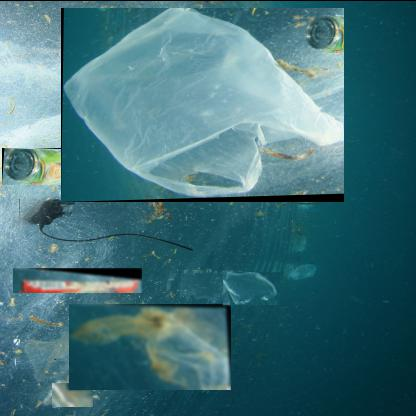can: (2, 146, 104, 184)
plastic-bag: (61, 6, 345, 201), (69, 302, 232, 389), (224, 270, 284, 304)
waste: (13, 266, 143, 292), (19, 197, 78, 226), (52, 381, 94, 406)
